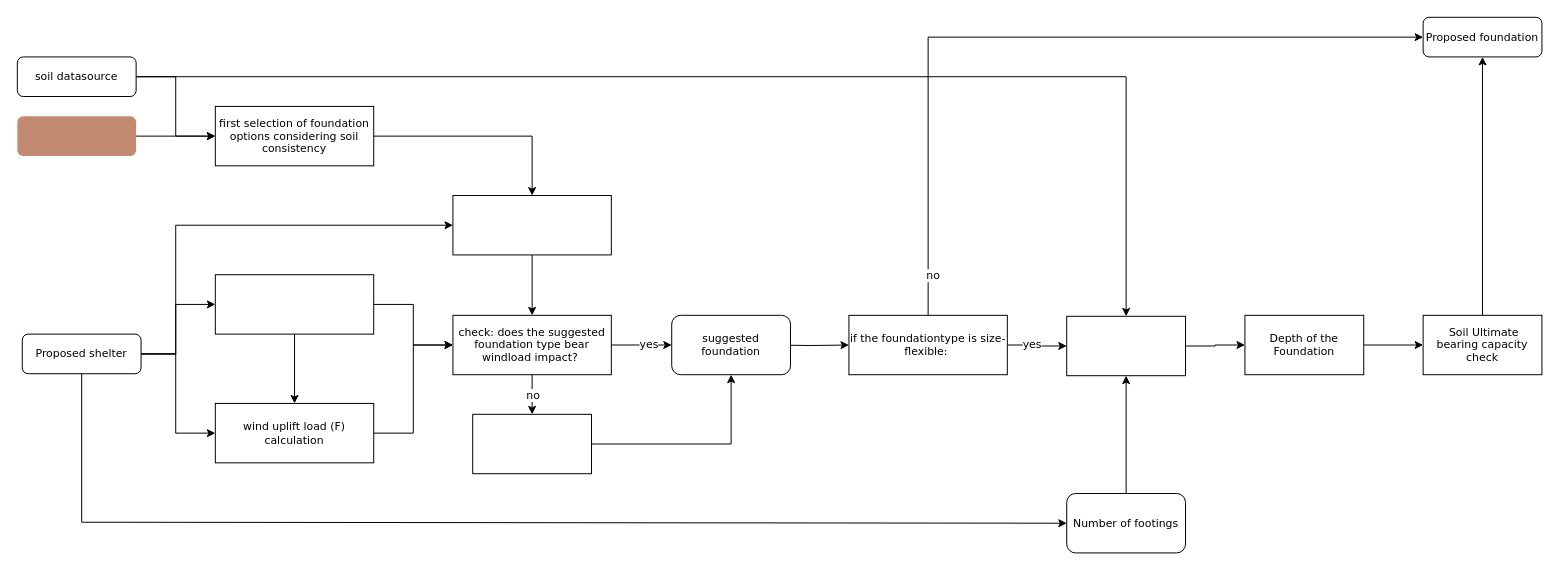
The diagram is 1559 pixels wide and 570 high, and some of its shapes have lost their labels. Each missing label, with the centre of its shape:
"Add needed weight" belongs at [532,443].
"calculate size of the foundation" belongs at [1126,345].
"calculation of foundation properties: considering shelter weight and soil data" belongs at [531,225].
"shelter foundation dataset" belongs at [76,135].
"wind load (F) calculation" belongs at [294,304].
